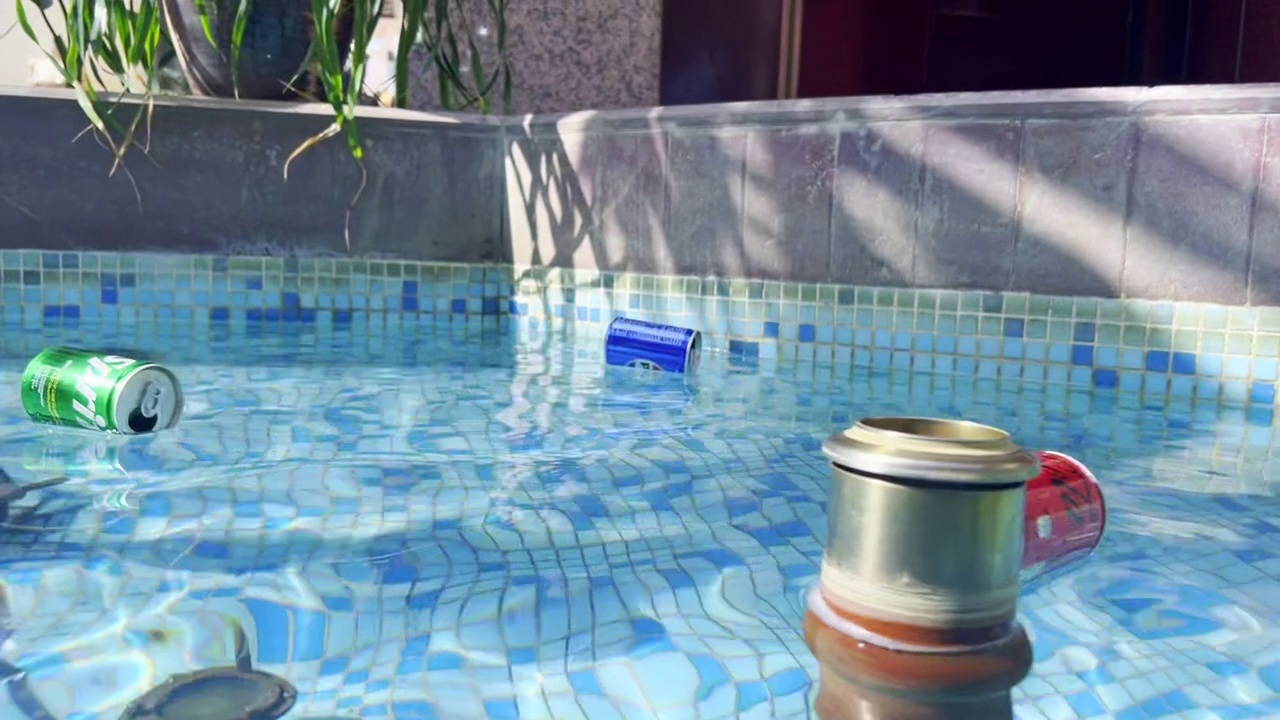debris: (957, 437, 1135, 605), (12, 344, 205, 438), (597, 310, 705, 380)
